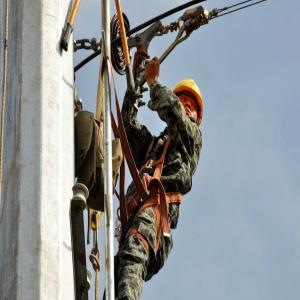yellow: (170, 76, 204, 129)
